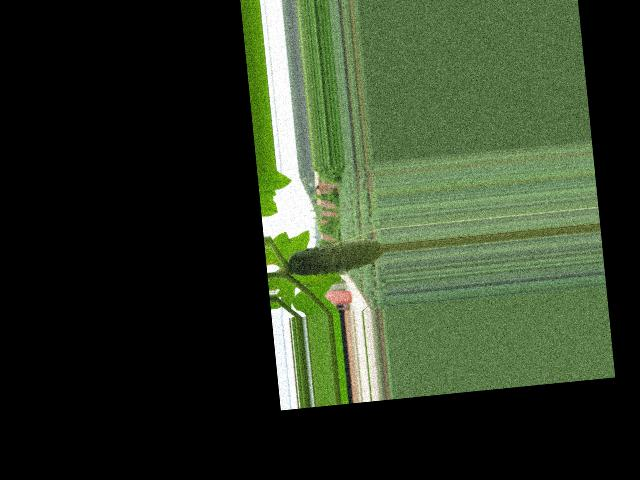cucumber: (287, 237, 385, 277)
